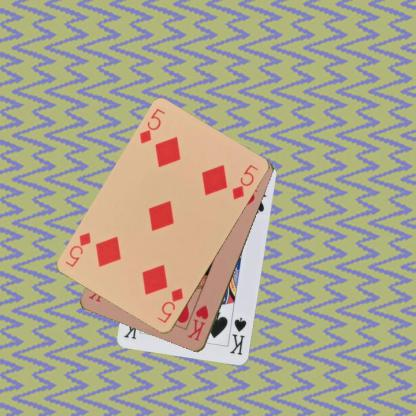5d: (154, 285, 185, 325), (137, 106, 166, 146)
Kh: (184, 302, 210, 342)
Ks: (227, 315, 248, 356)
